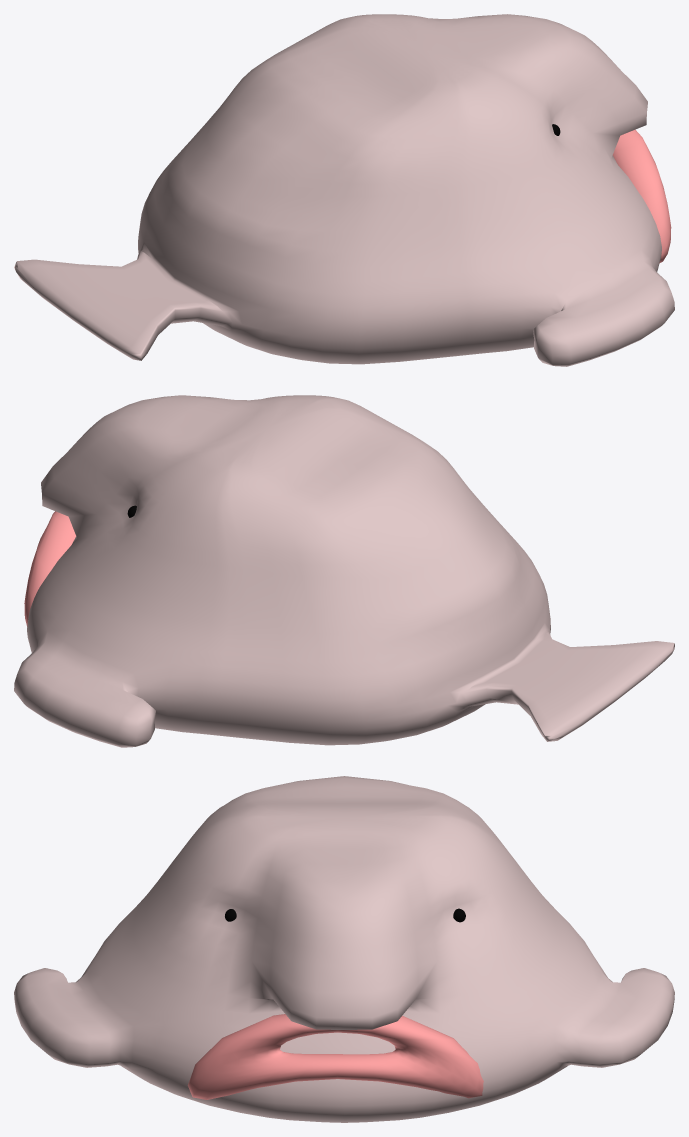
File: 블룹피쉬 수정본 최종.fbx
The picture shows the model from 3 angles, top to bottom: view 1: azimuth 30°, elevation 25°; view 2: azimuth 150°, elevation 25°; view 3: azimuth 270°, elevation 25°; orthographic projection.
Visible parts, largest first — view 1: pSphere1, pTorus1; view 2: pSphere1, pTorus1; view 3: pSphere1, pTorus1.
Boxes of the visible parts, bbox=[...] form: pSphere1: bbox=[14, 14, 674, 366]; pTorus1: bbox=[612, 129, 671, 263]; pSphere1: bbox=[14, 395, 674, 747]; pTorus1: bbox=[24, 511, 76, 626]; pSphere1: bbox=[14, 776, 674, 1122]; pTorus1: bbox=[187, 1014, 483, 1099].
Size of the model in its own units: 2.98 by 1.26 by 3.02.
